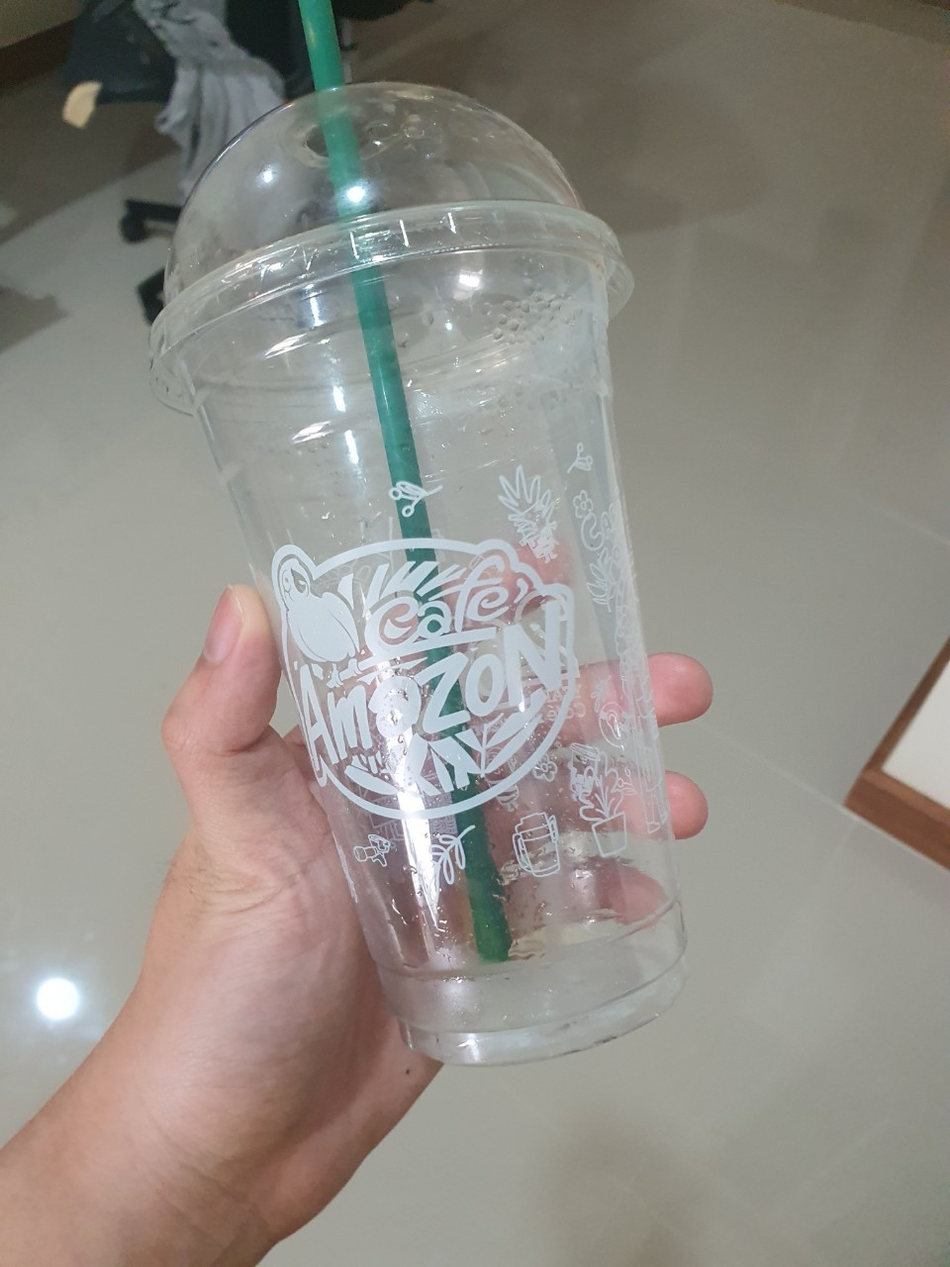plastic: (122, 62, 730, 1093)
